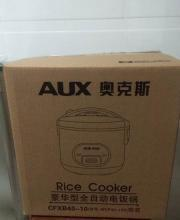cardboard: (3, 52, 179, 219)
